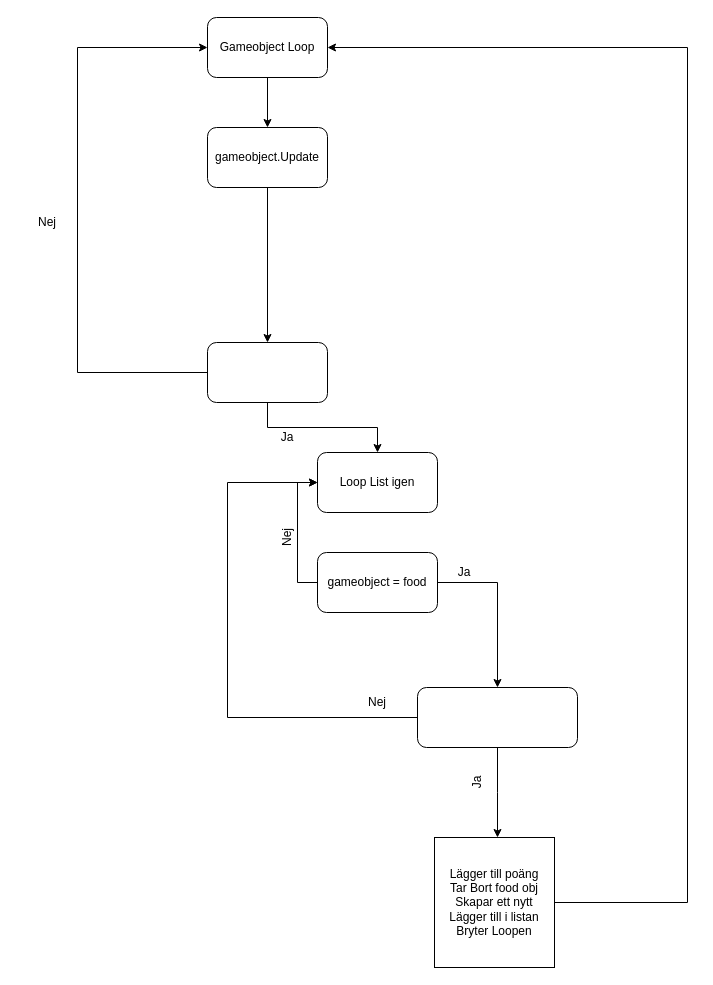
This 713x985 diagram has some shape labels left out. The shapes that lost their labels are listed below. From the top down, each one's centre as x and y in pixels, then its label:
At [267,372]: "CheckPlayer".
At [497,717]: "Food.Pos=Player.pos".
